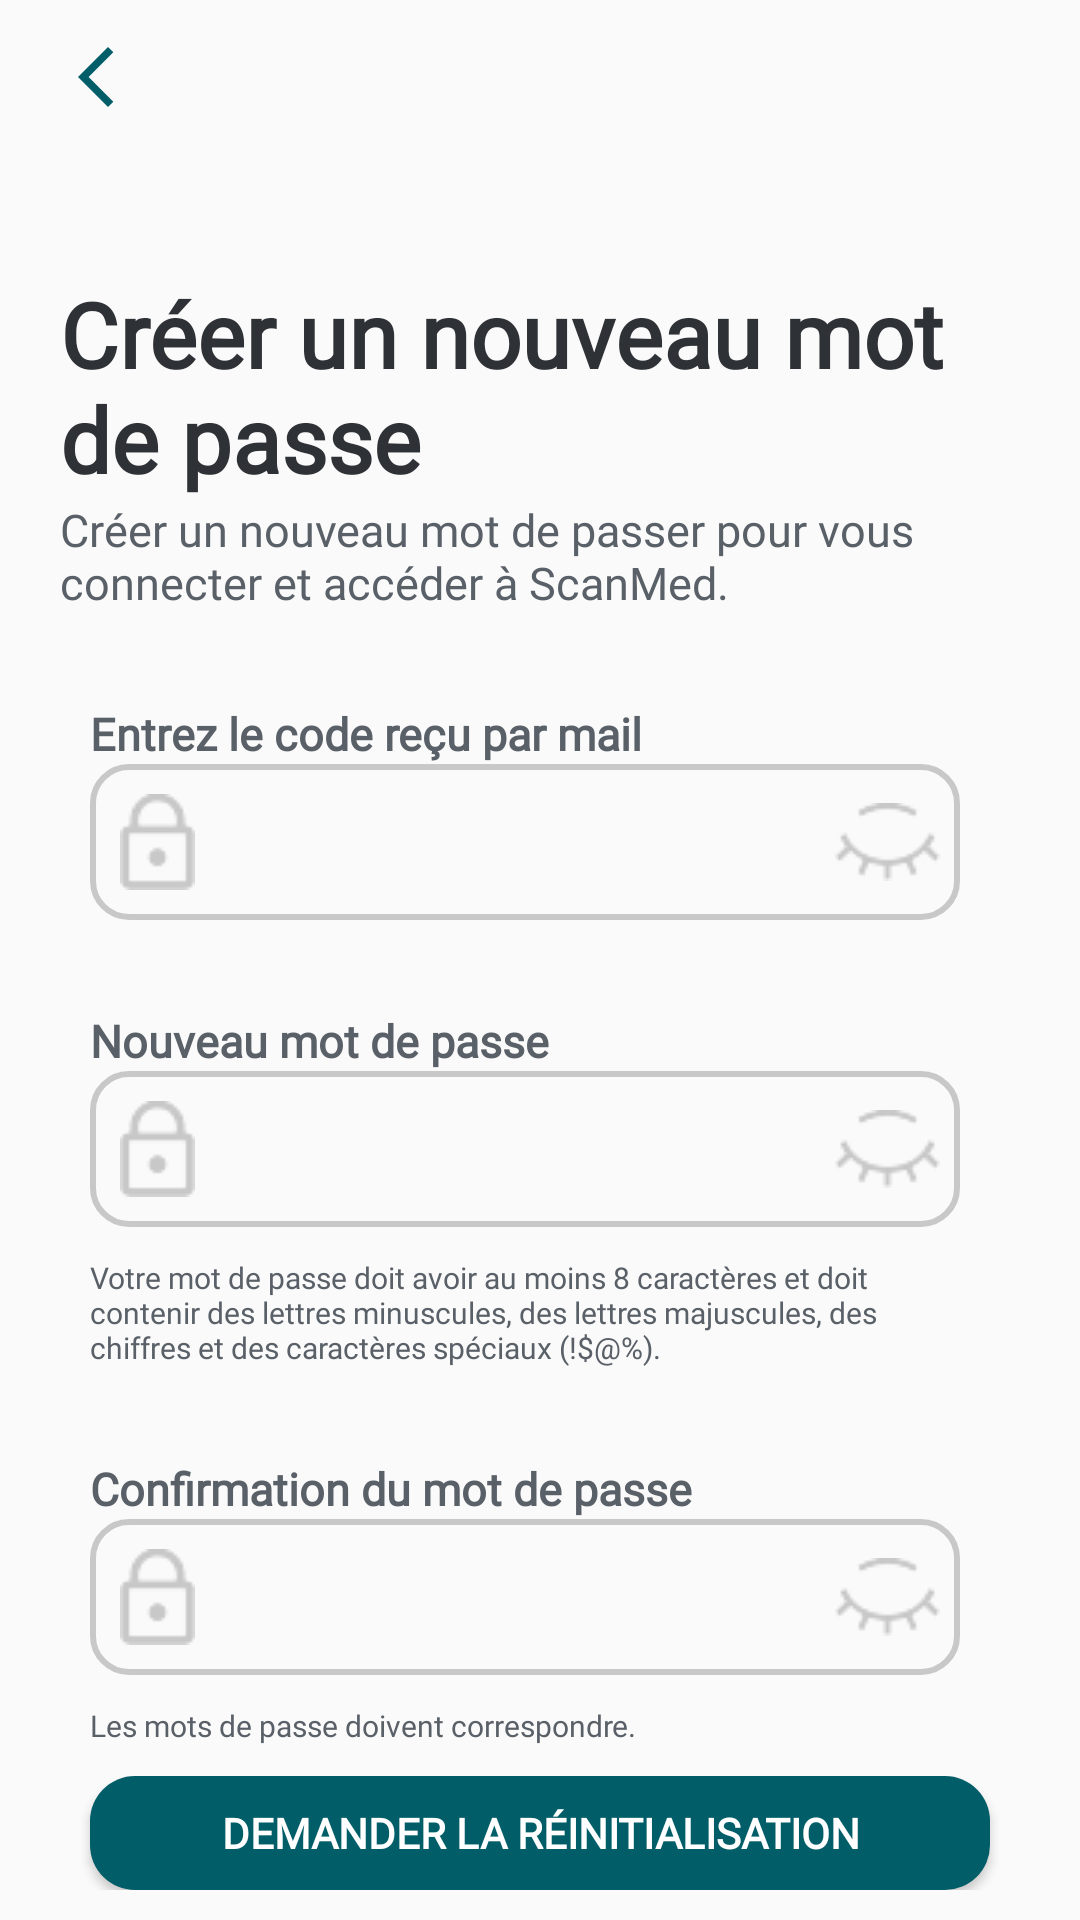

Named icons in this screenshot (1080×1920) and their bounding boxes, [x1=x1, y1=y1, x2=x2, y2=y2]:
arrow back: [x1=78, y1=47, x2=113, y2=107]
close eyes: [x1=815, y1=764, x2=960, y2=920], [x1=815, y1=1071, x2=960, y2=1227], [x1=815, y1=1519, x2=960, y2=1675]
